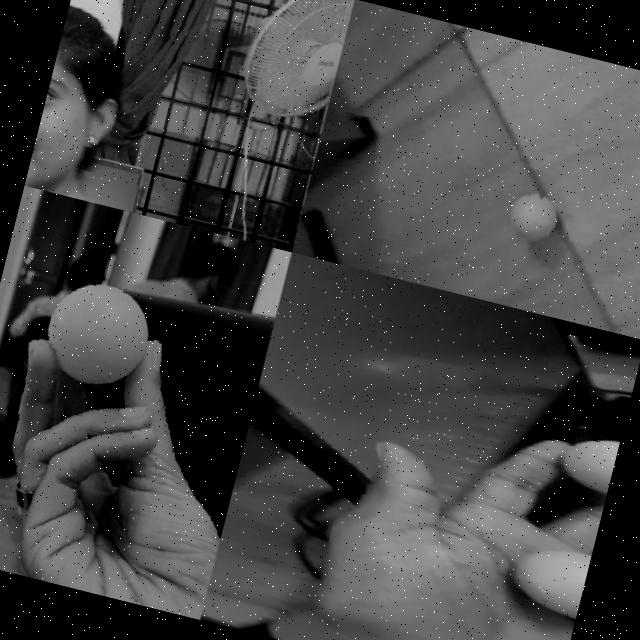ping-pong-ball: (36, 270, 156, 390), (508, 540, 590, 618), (557, 428, 620, 492), (504, 188, 562, 245)
